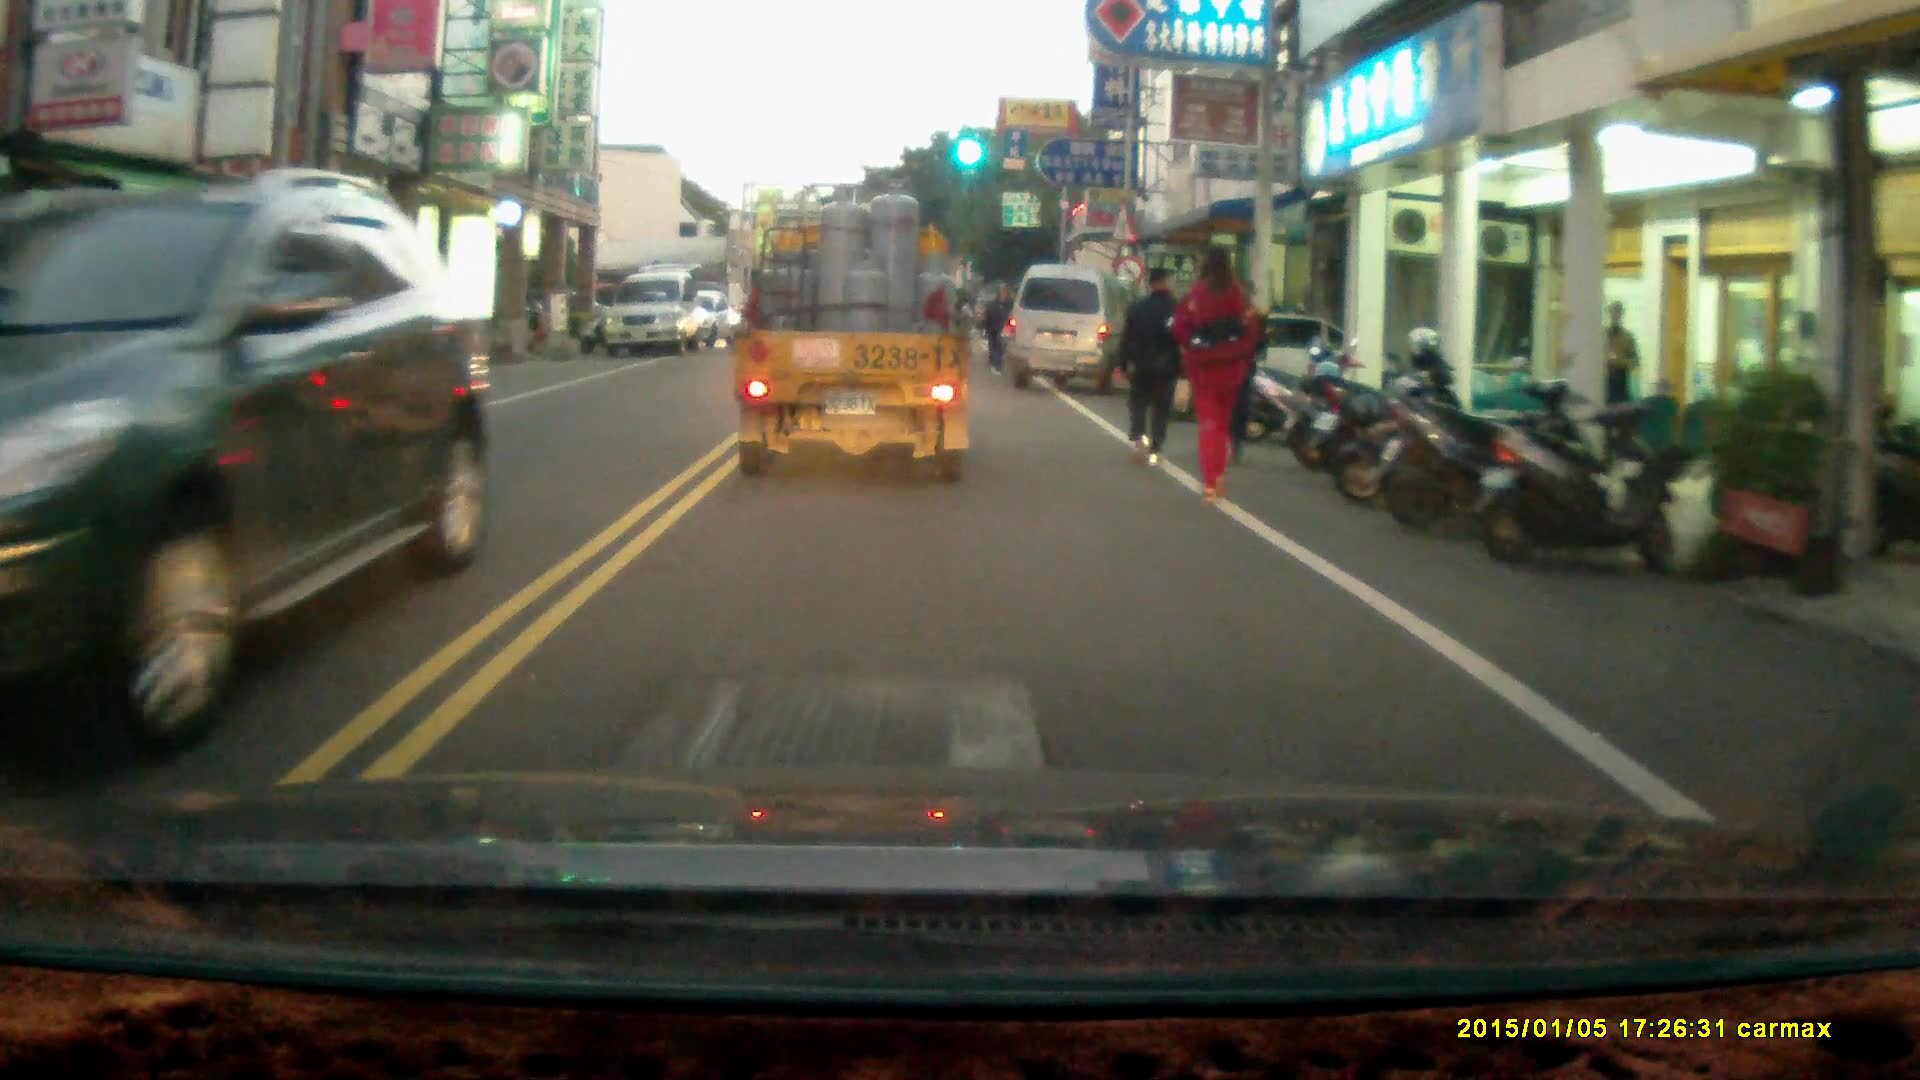pedestrian: (1175, 242, 1259, 510), (1116, 261, 1194, 465), (1599, 297, 1643, 449), (982, 287, 1016, 372)
vehicle: (1, 156, 511, 731), (729, 184, 982, 496), (187, 290, 458, 408), (1011, 264, 1144, 397), (603, 273, 713, 359)
